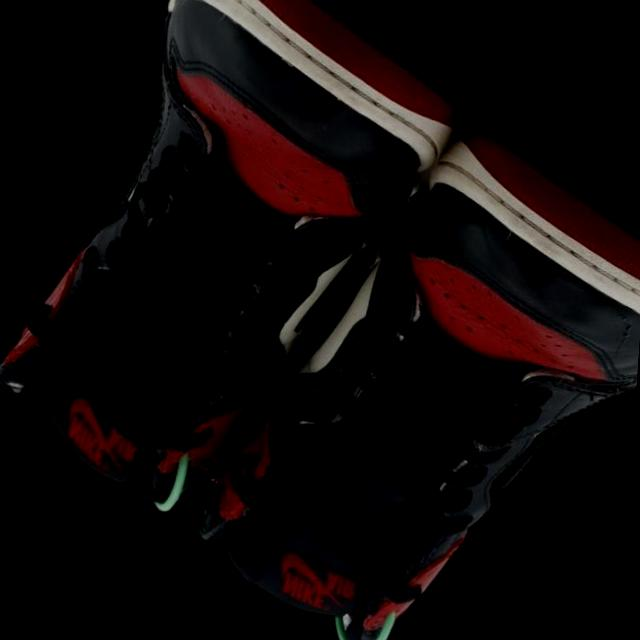nike_original_jordan: (0, 0, 475, 559), (155, 97, 640, 640)
